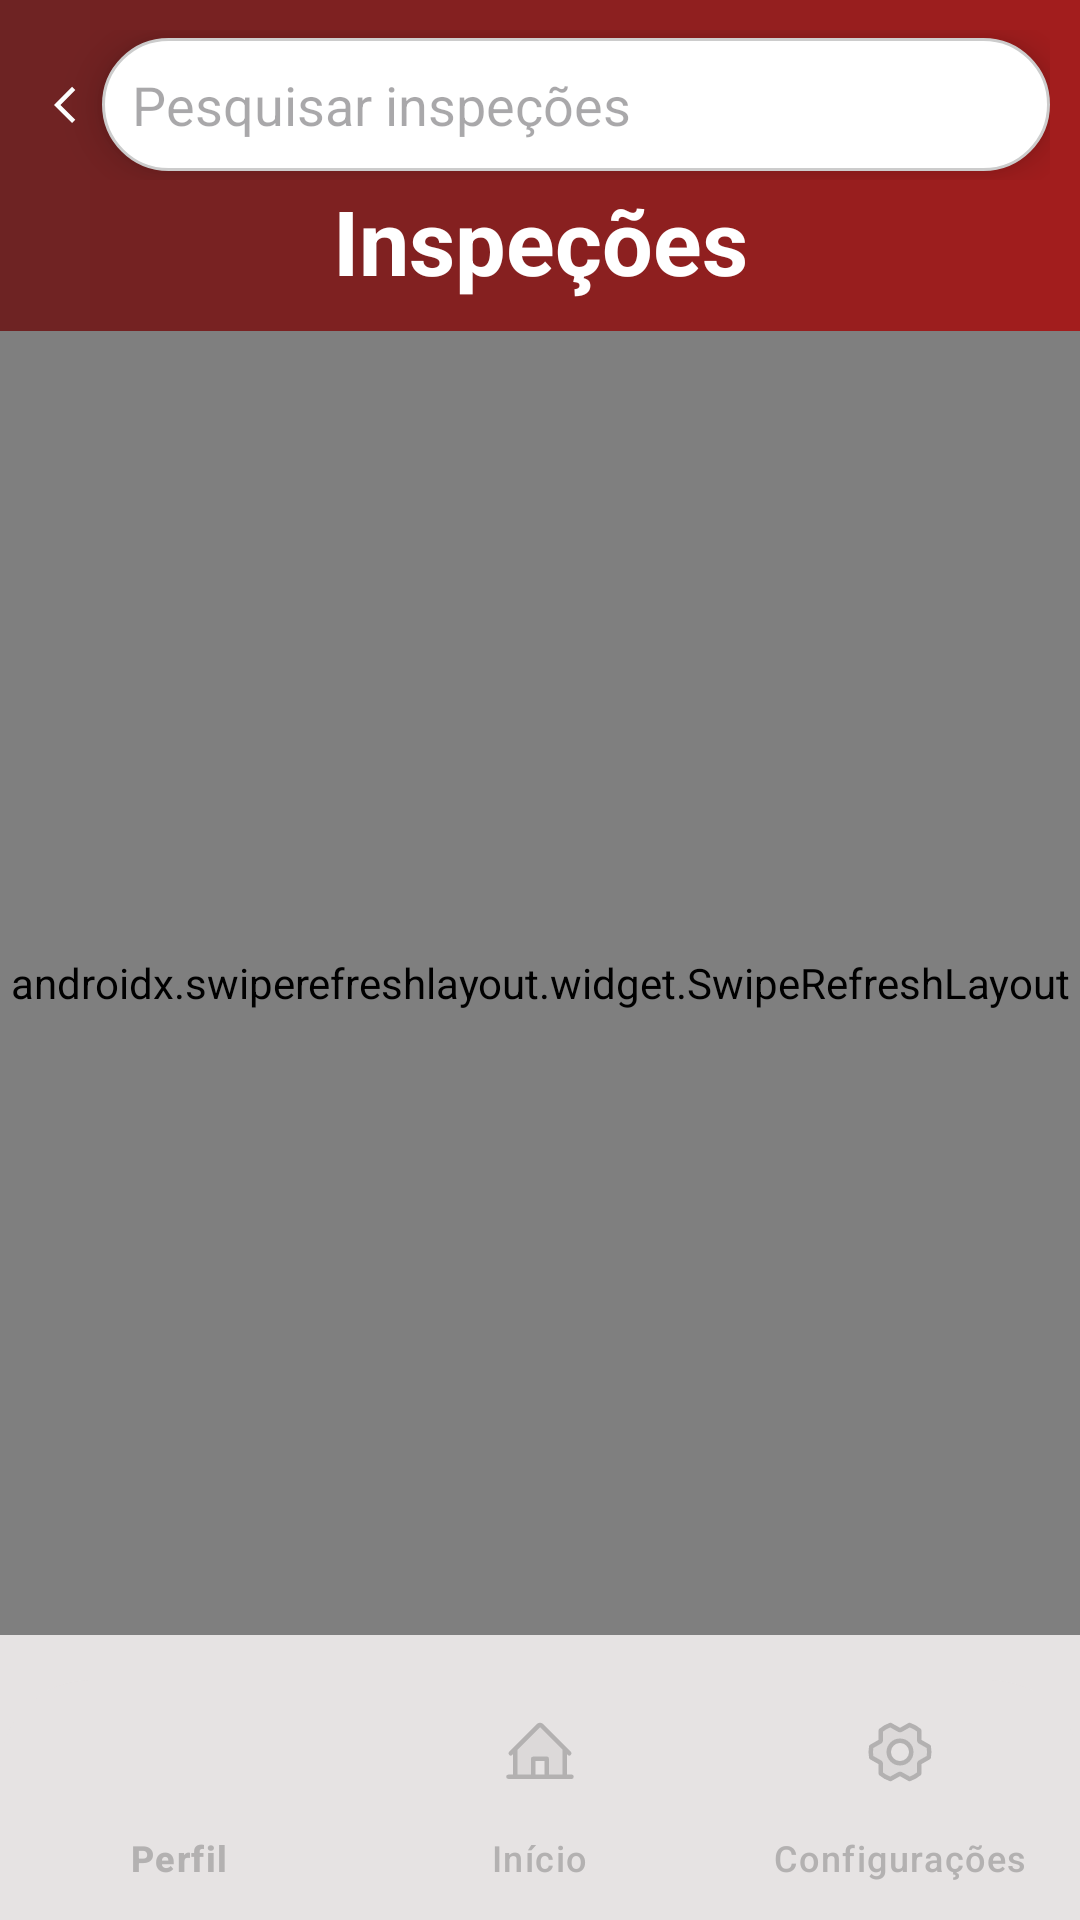

Screen size 1080 × 1920. Icon name, then its box in pixels as (x1, y1, x2, y2):
arrow left: (54, 87, 75, 123)
